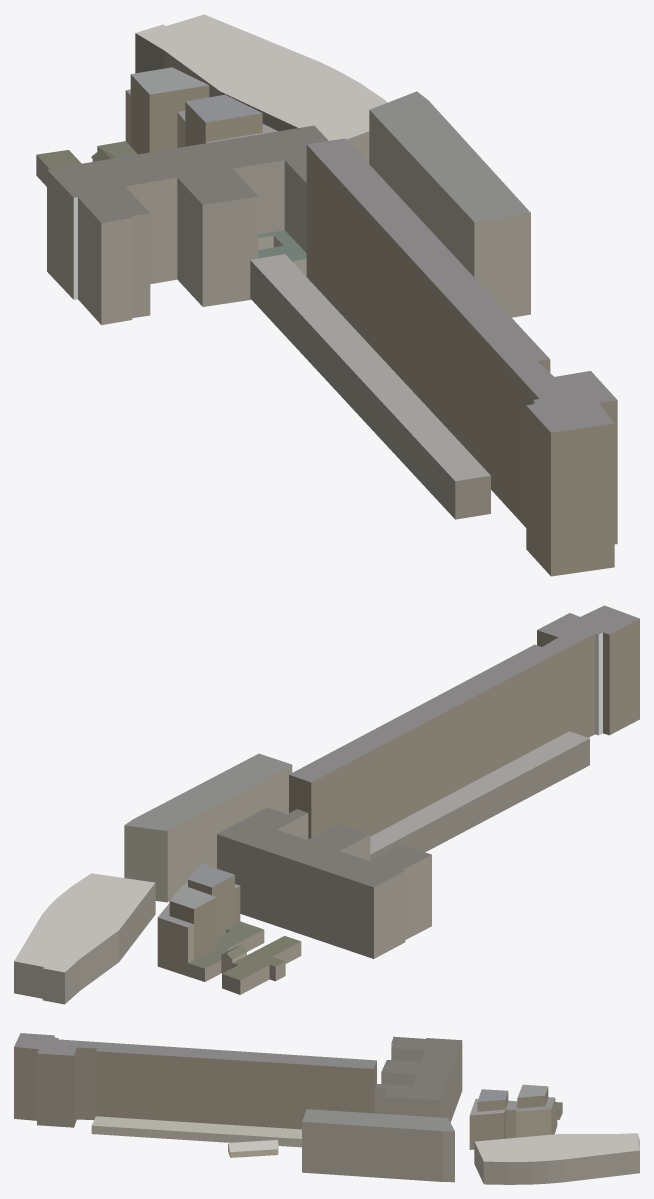
3 views of the same model, one above another, from view 1: azimuth 30°, elevation 25°; view 2: azimuth 150°, elevation 25°; view 3: azimuth 270°, elevation 25° (orthographic). The views are drawn at different scales.
Parts seen in each view (by area): view 1: tuile; view 2: tuile; view 3: tuile.
Part boxes in pixels (x1=…): tuile: x1=36, y1=14, x2=617, y2=576; tuile: x1=14, y1=605, x2=639, y2=1004; tuile: x1=14, y1=1033, x2=639, y2=1184.
Bounding box in the file's own units: 123 × 44.85 × 336.
